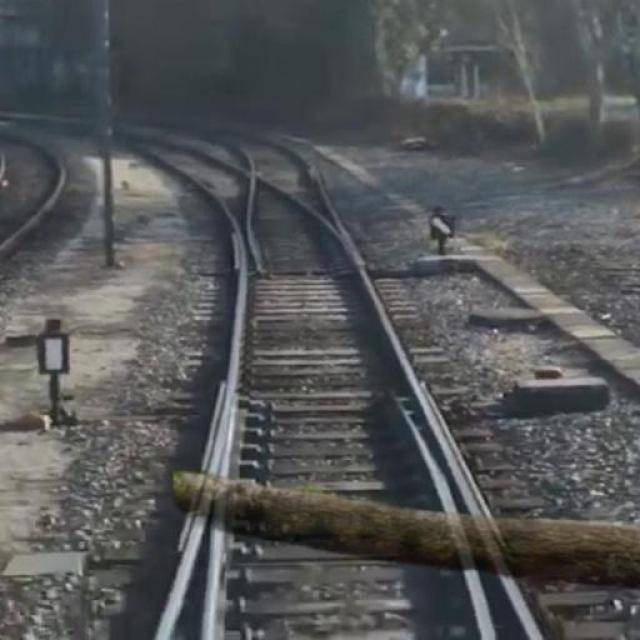Branches: (166, 462, 640, 590)
